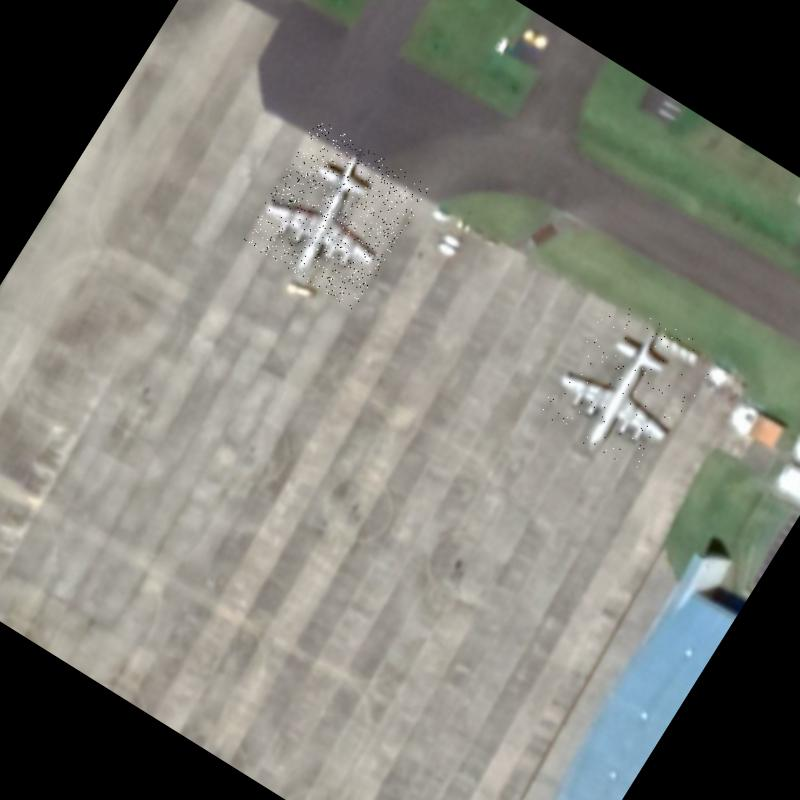A9: (241, 118, 431, 311), (536, 290, 720, 480)
